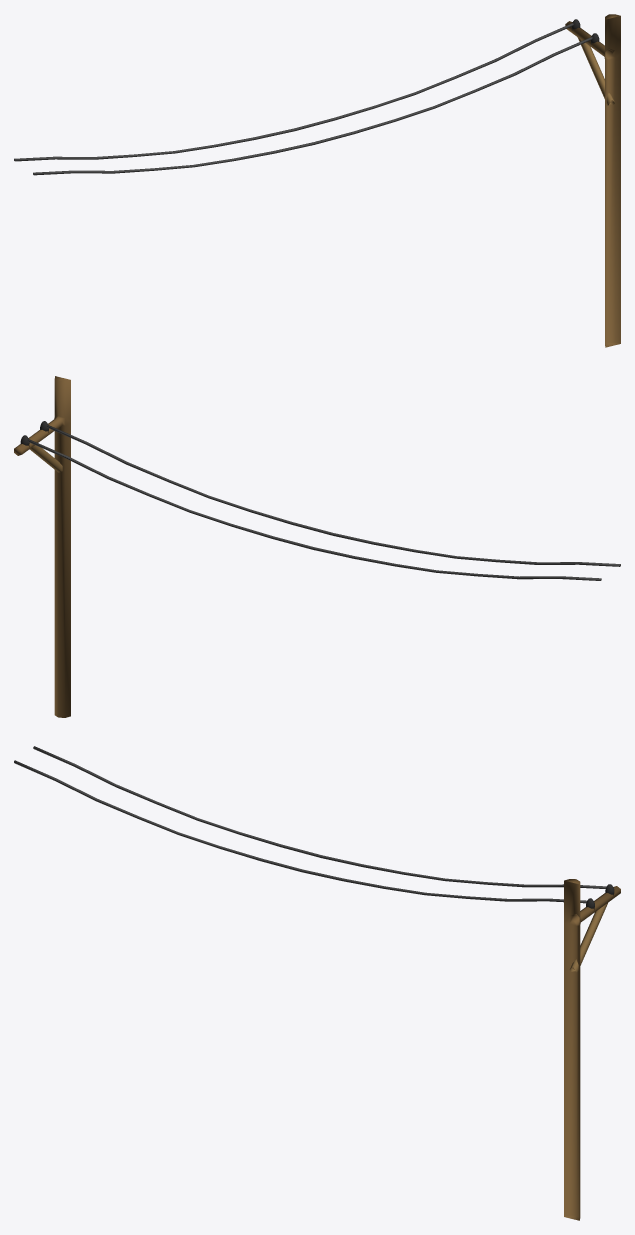
The model's file is telegraph_pole.glb.
The picture shows the model from 3 angles, top to bottom: view 1: azimuth 30°, elevation 25°; view 2: azimuth 150°, elevation 25°; view 3: azimuth 330°, elevation 25°; orthographic projection. The views are drawn at different scales.
Parts seen in each view (by area): view 1: Cube.156; view 2: Cube.156; view 3: Cube.156.
Part boxes in pixels (bbox=[...]): Cube.156: bbox=[14, 14, 620, 347]; Cube.156: bbox=[14, 376, 620, 717]; Cube.156: bbox=[14, 746, 620, 1220].
Bounding box in the file's own units: 10.15 × 5.59 × 1.36.
